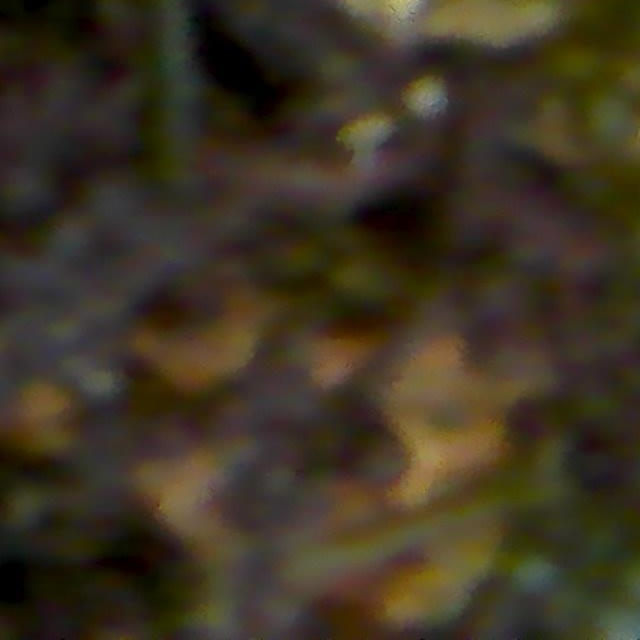SeaGrape: (582, 91, 639, 150), (0, 160, 53, 216), (550, 41, 604, 90), (595, 601, 640, 639)
